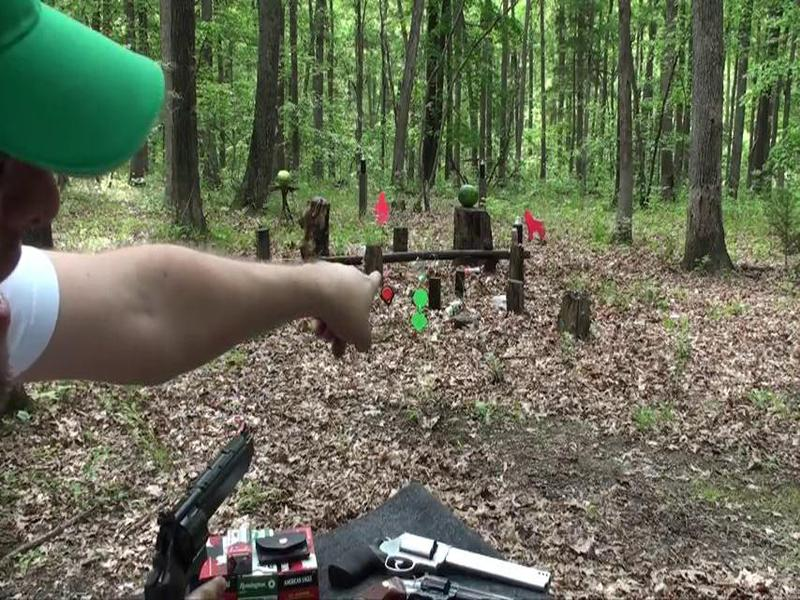Revolver: (116, 413, 275, 600)
